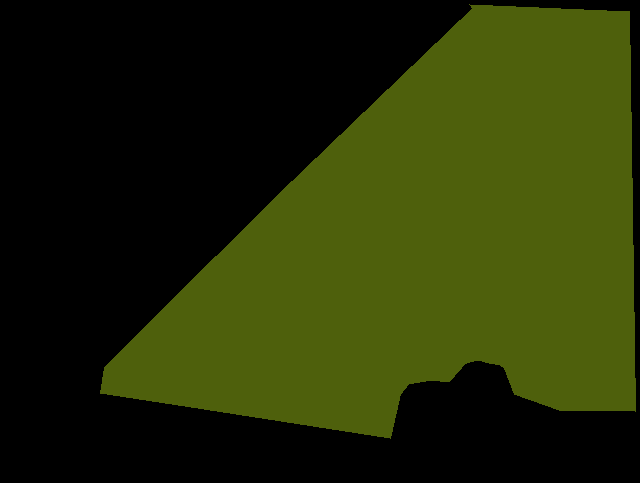Train: (100, 4, 635, 439)
